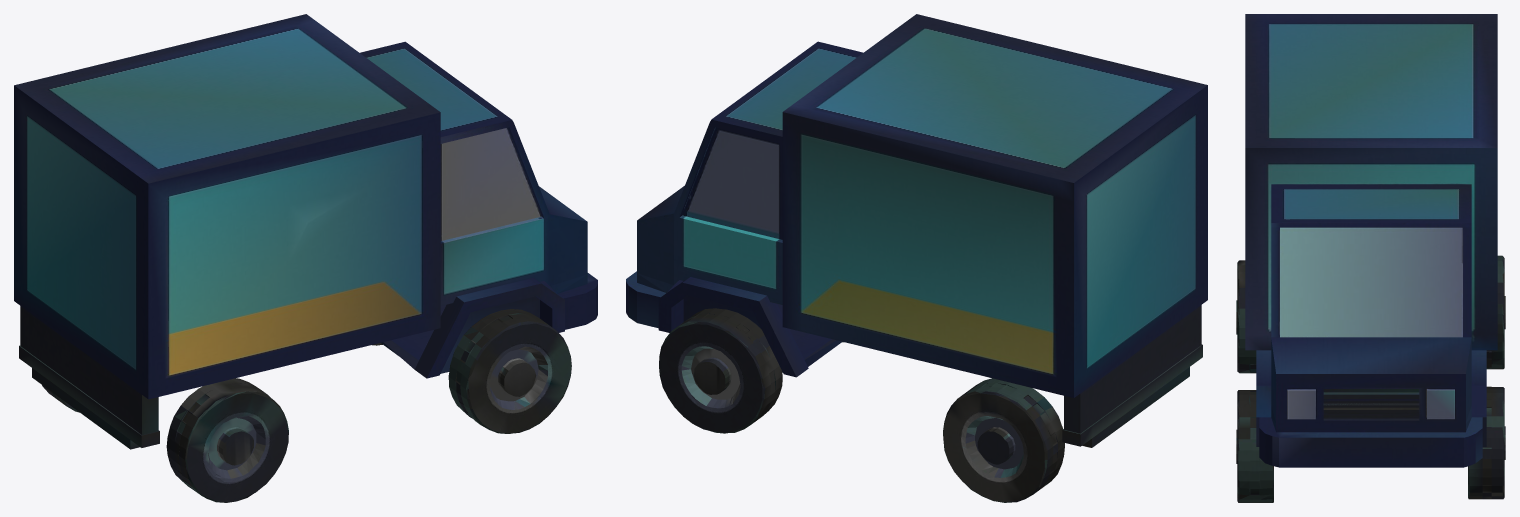
Rendered from delivery-truck.glb.
3 renders of one model, left to right at view 1: azimuth 30°, elevation 25°; view 2: azimuth 150°, elevation 25°; view 3: azimuth 270°, elevation 25°, orthographic. The views are drawn at different scales.
Visible parts, largest first — view 1: tripo_node_f057d457-520b-42d7-bea0-31112bb3b248; view 2: tripo_node_f057d457-520b-42d7-bea0-31112bb3b248; view 3: tripo_node_f057d457-520b-42d7-bea0-31112bb3b248.
Boxes of the visible parts, bbox=[...] form: tripo_node_f057d457-520b-42d7-bea0-31112bb3b248: bbox=[14, 14, 597, 502]; tripo_node_f057d457-520b-42d7-bea0-31112bb3b248: bbox=[626, 14, 1207, 502]; tripo_node_f057d457-520b-42d7-bea0-31112bb3b248: bbox=[1236, 14, 1505, 502].
Size of the model in its own units: 0.998 by 0.6855 by 0.5293.
1 material, 1 textured.
